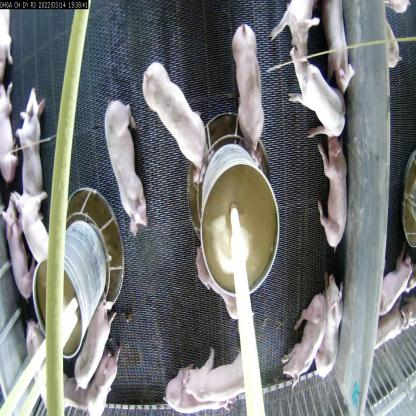Pig: (135, 62, 210, 186), (98, 94, 150, 245), (280, 44, 349, 146), (223, 12, 264, 152), (310, 131, 350, 254), (0, 188, 38, 314), (22, 318, 71, 415), (73, 292, 115, 392), (316, 0, 358, 99), (178, 349, 252, 405), (282, 296, 327, 383), (18, 85, 50, 201), (320, 278, 347, 400), (18, 174, 50, 273), (158, 368, 224, 415), (270, 0, 319, 52), (85, 350, 123, 415), (0, 77, 16, 186)
